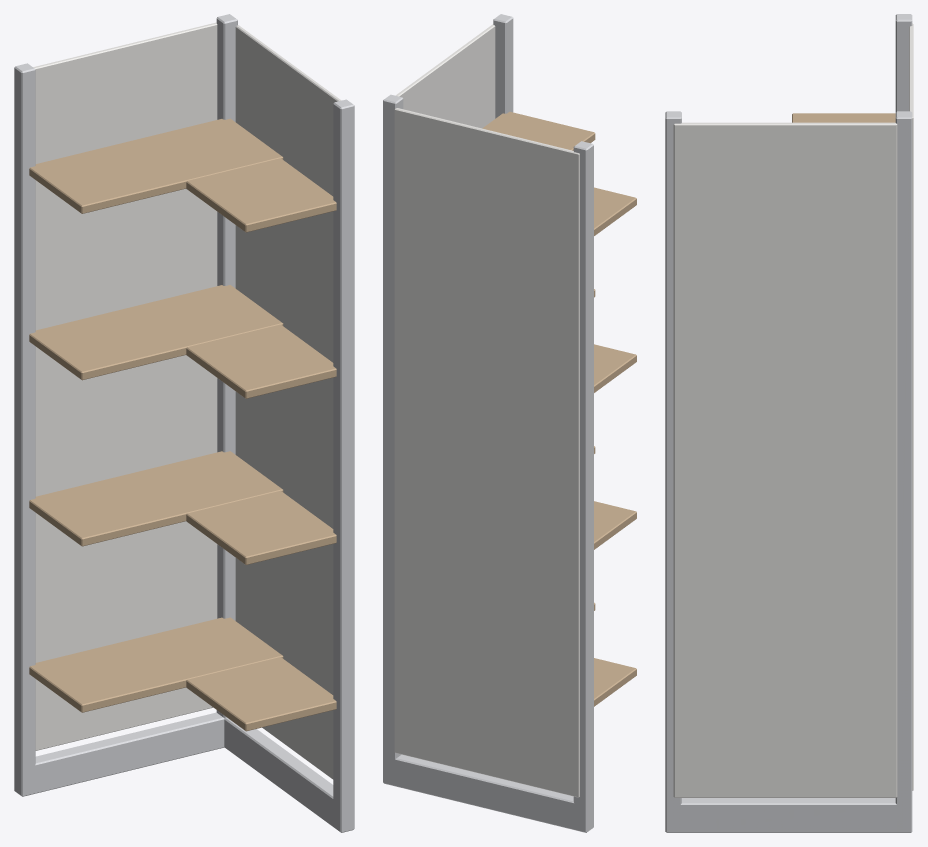
The model's file is SM_Retail_25197_PerimeterWallBayCorner.fbx.
3 renders of one model, left to right at view 1: azimuth 30°, elevation 25°; view 2: azimuth 150°, elevation 25°; view 3: azimuth 270°, elevation 25°, orthographic. The views are drawn at different scales.
Visible parts, largest first — view 1: SM_Retail_25197_PerimeterWallBayCorner; view 2: SM_Retail_25197_PerimeterWallBayCorner; view 3: SM_Retail_25197_PerimeterWallBayCorner.
Boxes of the visible parts, x1,y1,x2,y2 form: SM_Retail_25197_PerimeterWallBayCorner: [14, 14, 354, 832]; SM_Retail_25197_PerimeterWallBayCorner: [383, 14, 636, 832]; SM_Retail_25197_PerimeterWallBayCorner: [665, 14, 913, 832].
Bounding box in the file's own units: 75.4 × 75.4 × 240.
